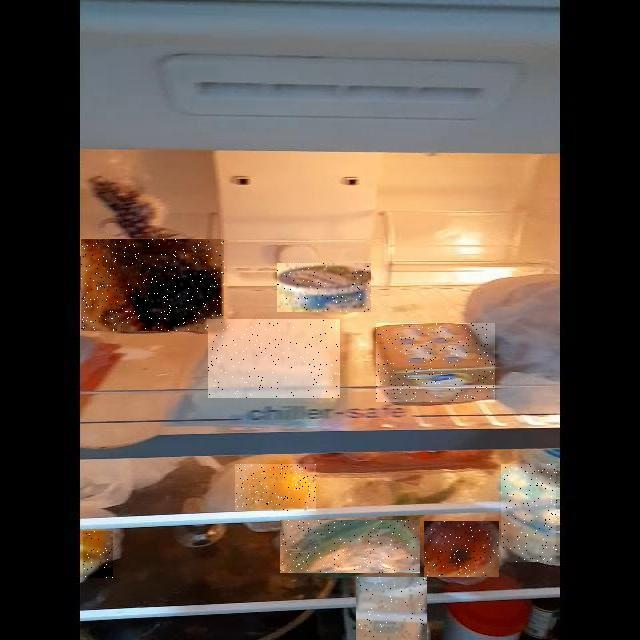Bread: (82, 239, 226, 331)
Butter: (376, 323, 495, 402)
Cheese: (208, 319, 340, 398)
Chillies: (280, 520, 420, 573)
Lemon: (235, 464, 316, 511), (83, 531, 113, 578)
Milk: (356, 577, 427, 640)
Tomato Paste: (424, 521, 499, 577)
Yoghurt: (502, 464, 558, 562), (277, 263, 371, 312)
